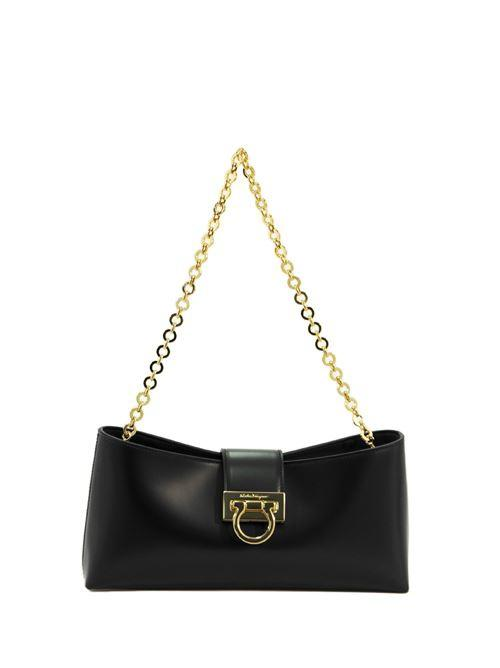FERRAGAMO: (215, 479, 296, 549)
